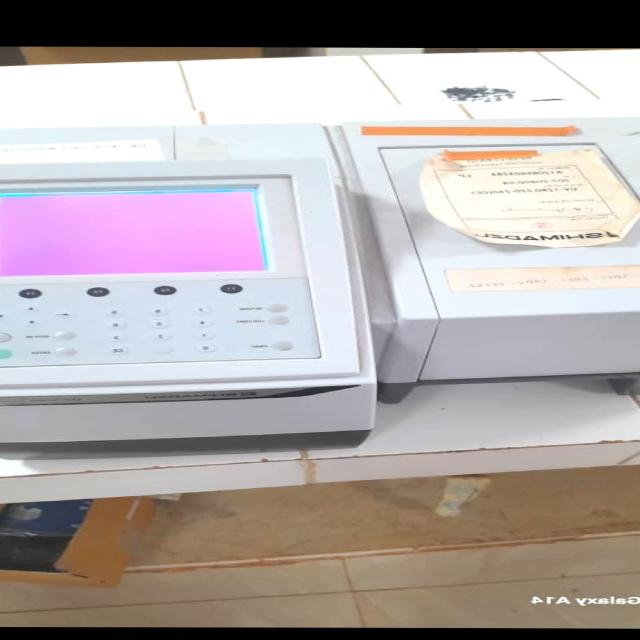Spectrophotometer: (0, 119, 640, 462)
